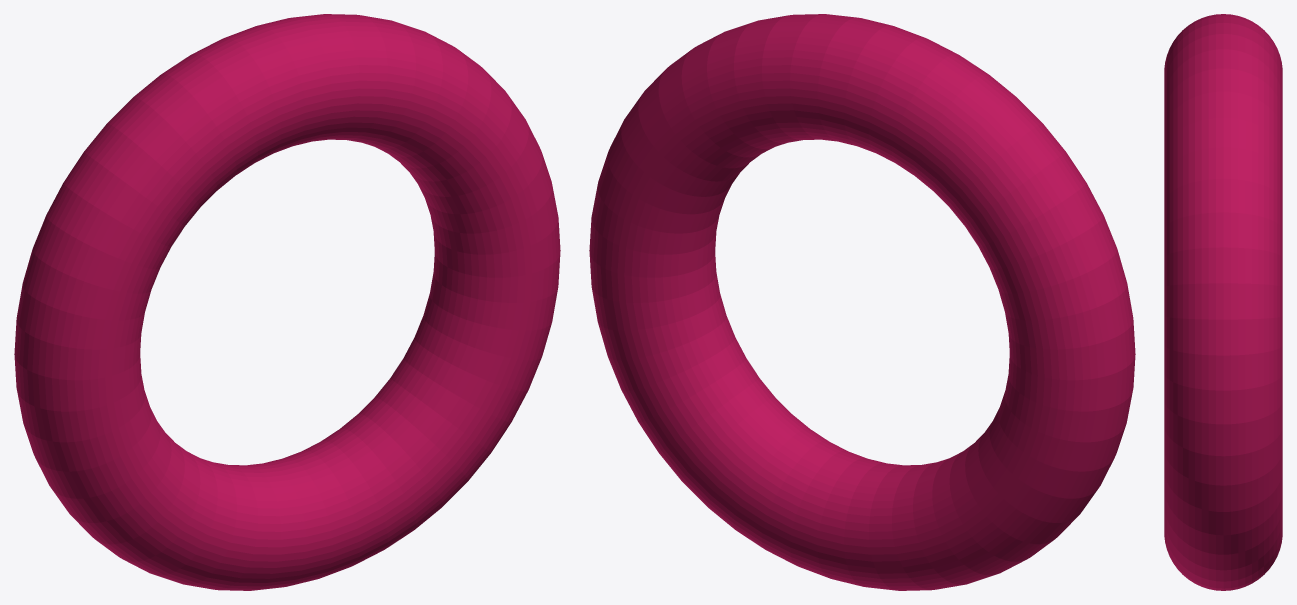
3 views of the same model, side by side, from view 1: azimuth 30°, elevation 25°; view 2: azimuth 150°, elevation 25°; view 3: azimuth 270°, elevation 25° (orthographic). The views are drawn at different scales.
Parts seen in each view (by area): view 1: world; view 2: world; view 3: world.
Boxes of the visible parts, left/top/right/bottom form: world: left=14, top=14, right=560, bottom=590; world: left=589, top=14, right=1135, bottom=590; world: left=1164, top=14, right=1282, bottom=590.
Size of the model in its own units: 36.93 by 36.86 by 7.59.
